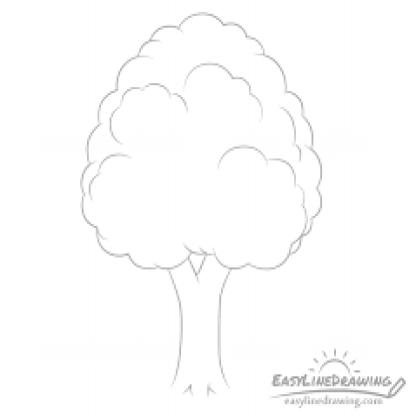branch_cut: (163, 249, 235, 293)
crown_cloud: (78, 9, 324, 271)
root_only: (160, 368, 234, 403)
trunk_straight: (172, 298, 228, 361)
